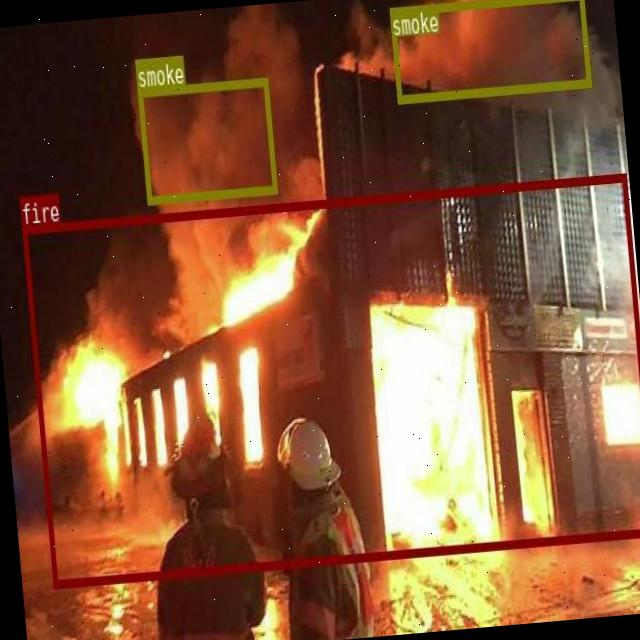fire: (21, 172, 640, 586)
smoke: (388, 0, 591, 102), (136, 76, 277, 202)
